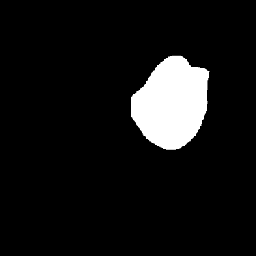mass: (136, 59, 207, 146)
